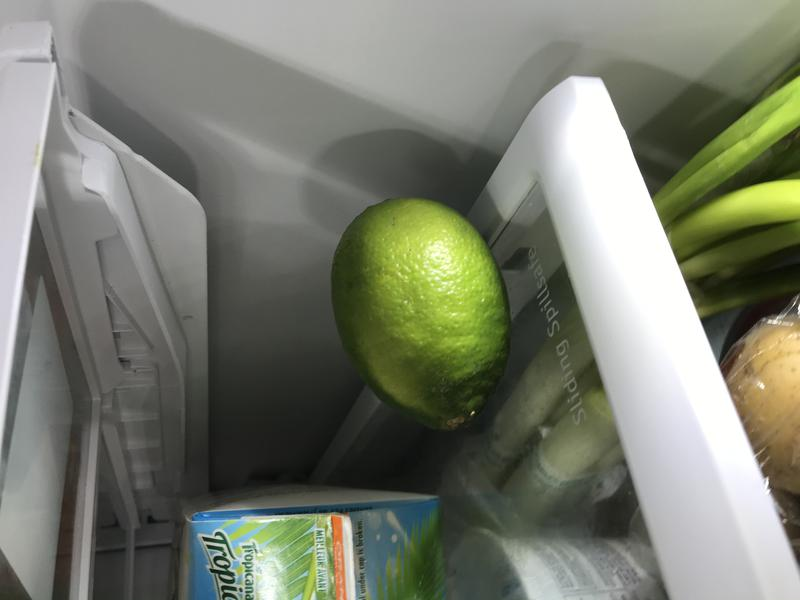lime: (325, 190, 525, 442)
